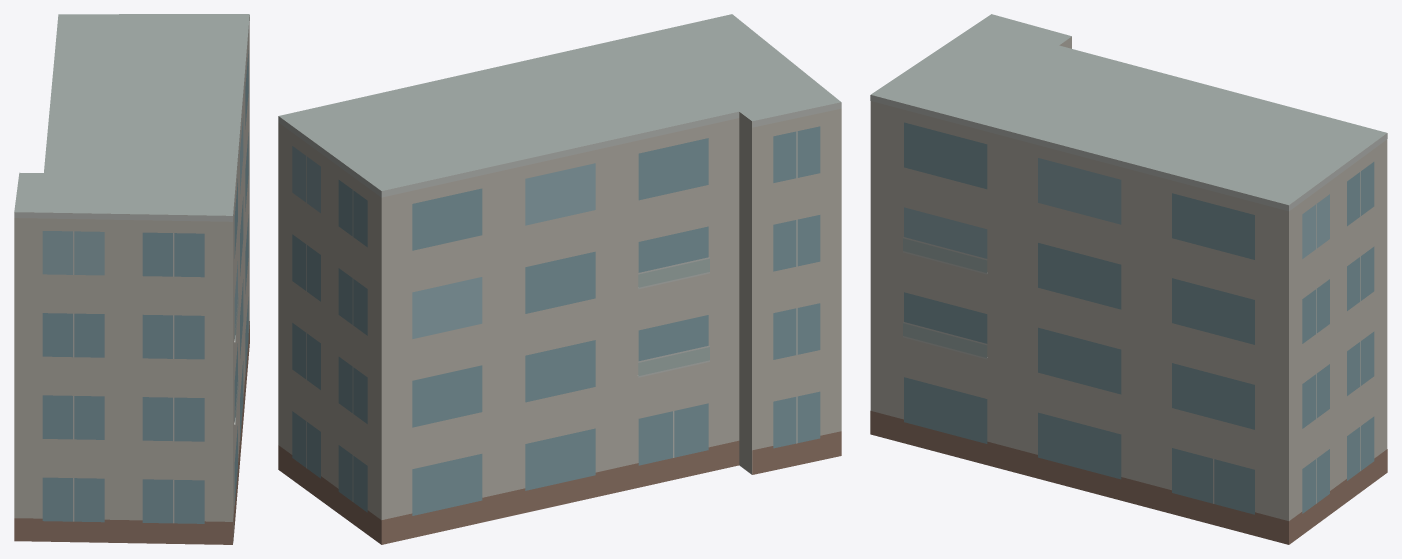
Rendered from survey-upis-32700605.glb.
3 renders of one model, left to right at view 1: azimuth 30°, elevation 25°; view 2: azimuth 150°, elevation 25°; view 3: azimuth 270°, elevation 25°, orthographic. The views are drawn at different scales.
Parts seen in each view (by area): view 1: survey-upis-32700605.tmp; view 2: survey-upis-32700605.tmp; view 3: survey-upis-32700605.tmp.
Boxes of the visible parts, bbox=[...] form: survey-upis-32700605.tmp: bbox=[14, 14, 249, 544]; survey-upis-32700605.tmp: bbox=[278, 14, 841, 544]; survey-upis-32700605.tmp: bbox=[870, 14, 1387, 544].
Size of the model in its own units: 16.25 by 13.45 by 18.56.
